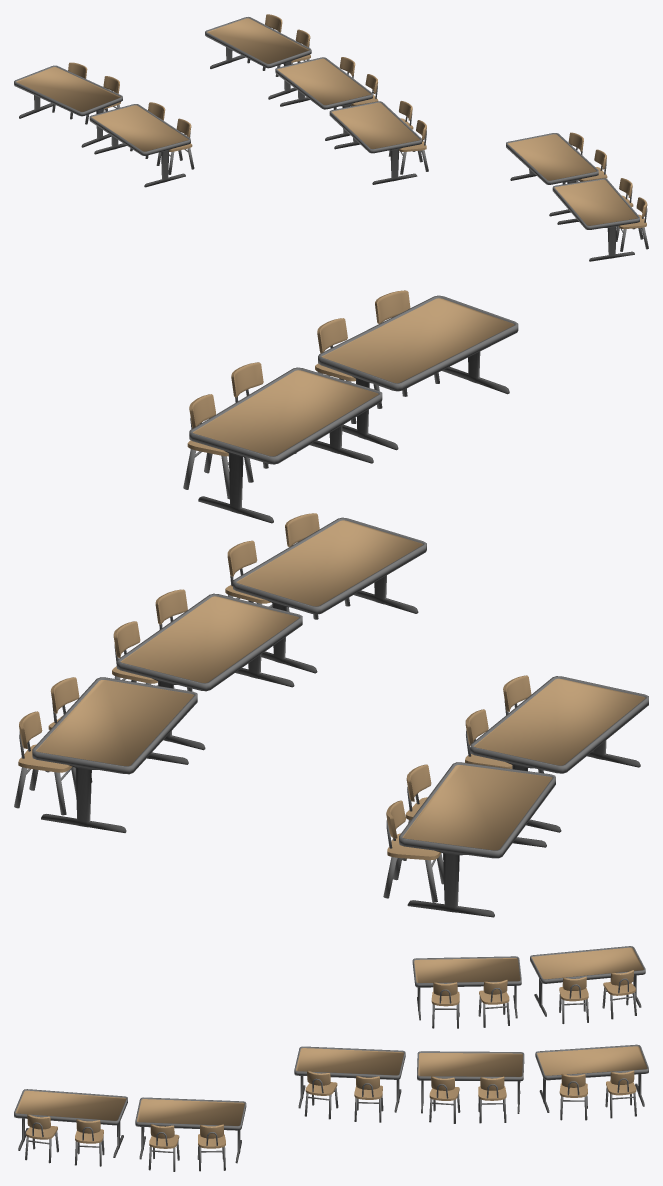
Rendered from d-roomcomp-l-auditorium-in.glb.
The picture shows the model from 3 angles, top to bottom: view 1: azimuth 30°, elevation 25°; view 2: azimuth 150°, elevation 25°; view 3: azimuth 270°, elevation 25°; orthographic projection. The views are drawn at different scales.
Visible parts, largest first — view 1: officeDesk.025, officeDesk.023, officeDesk.024, officeDesk.027, officeDesk.021, officeDesk.022, officeDesk.026, Chair.045, Chair.041, Chair.049; view 2: officeDesk.026, officeDesk.027, officeDesk.021, officeDesk.024, officeDesk.023, officeDesk.022, officeDesk.025, Chair.046, Chair.036, Chair.042, Chair.044, Chair.040 (+5 smaller); view 3: officeDesk.027, officeDesk.023, officeDesk.021, officeDesk.026, officeDesk.024, officeDesk.022, officeDesk.025, Chair.045, Chair.041, Chair.046, Chair.048, Chair.036 (+9 smaller).
Boxes of the visible parts, <box> form: officeDesk.025: <box>89,104,190,187</box>; officeDesk.023: <box>329,101,421,184</box>; officeDesk.024: <box>14,65,122,147</box>; officeDesk.027: <box>552,178,639,261</box>; officeDesk.021: <box>205,17,311,99</box>; officeDesk.022: <box>275,57,372,140</box>; officeDesk.026: <box>506,133,598,216</box>; Chair.045: <box>616,197,648,251</box>; Chair.041: <box>399,120,428,174</box>; Chair.049: <box>156,118,194,174</box>; officeDesk.026: <box>189,367,382,523</box>; officeDesk.027: <box>318,295,518,450</box>; officeDesk.021: <box>32,677,197,832</box>; officeDesk.024: <box>399,762,555,917</box>; officeDesk.023: <box>233,517,426,673</box>; officeDesk.022: <box>117,593,302,750</box>; officeDesk.025: <box>470,676,648,832</box>; Chair.046: <box>383,800,443,902</box>; Chair.036: <box>14,711,76,815</box>; Chair.042: <box>183,394,253,499</box>; Chair.044: <box>315,318,382,423</box>; Chair.040: <box>225,540,289,611</box>; officeDesk.027: <box>14,1089,127,1157</box>; officeDesk.023: <box>294,1046,405,1112</box>; officeDesk.021: <box>535,1044,648,1112</box>; officeDesk.026: <box>135,1097,246,1163</box>; officeDesk.024: <box>530,946,645,1016</box>; officeDesk.022: <box>417,1051,524,1113</box>; officeDesk.025: <box>412,956,521,1020</box>; Chair.045: <box>25,1114,58,1163</box>; Chair.041: <box>304,1070,338,1119</box>; Chair.046: <box>602,970,636,1019</box>; Chair.048: <box>478,980,509,1027</box>; Chair.036: <box>605,1070,636,1118</box>.
Bounding box in the file's own units: 9.53 × 1.07 × 13.69.
1 material, 1 textured.
